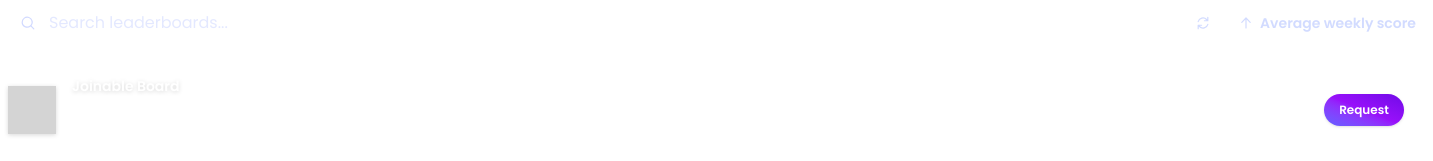
Test case: LeaderboardPublic.vue › shows green tick on role badge after successful join
Click the button with class "btn-common-button" at (1364, 110), box [1324,94,1404,126]
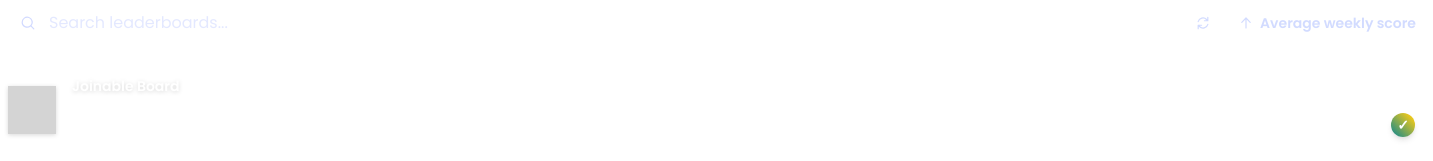
Now the text "✓" is shown, box [1391,113,1415,137]
